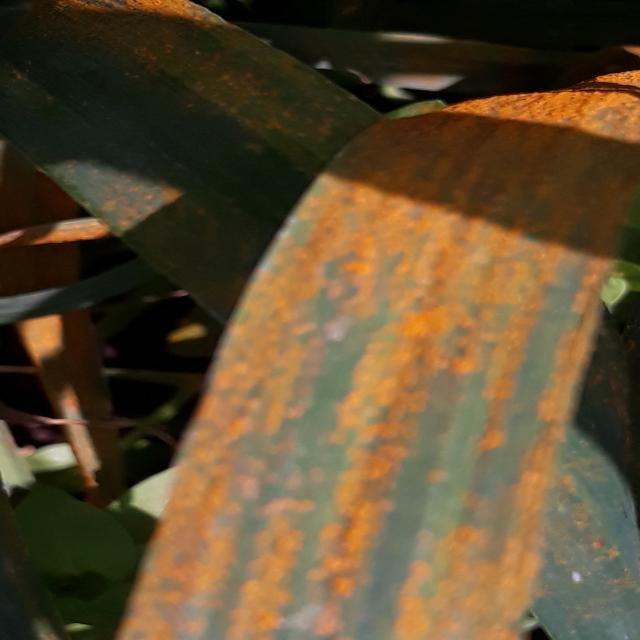yellow_rust: (116, 69, 640, 638), (11, 0, 388, 302), (3, 307, 190, 501)
